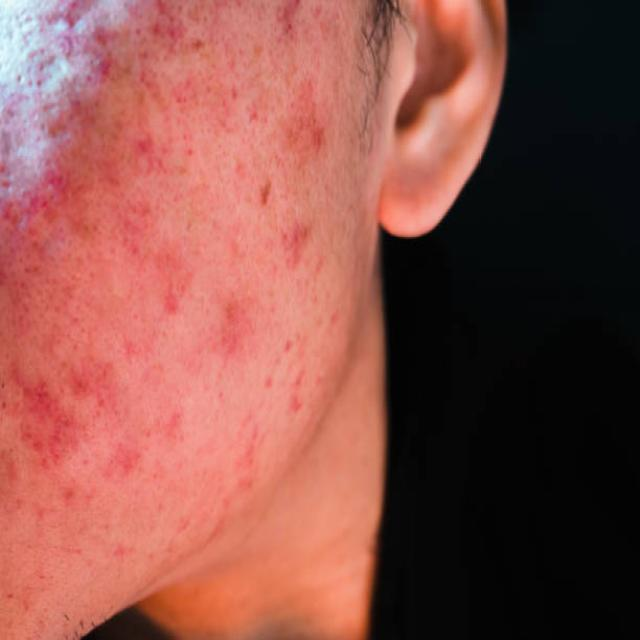Eczema: (5, 19, 339, 526)
